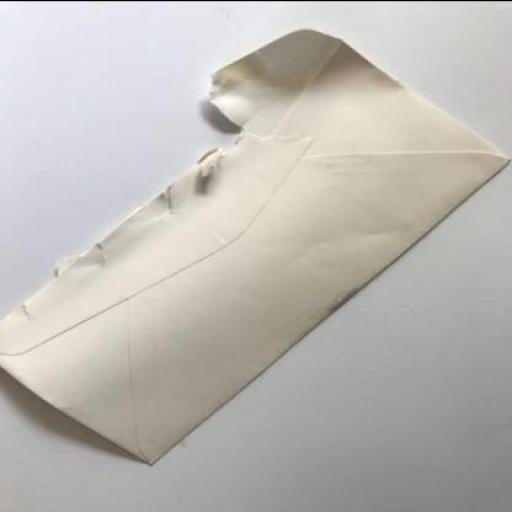paper: (1, 28, 511, 463)
